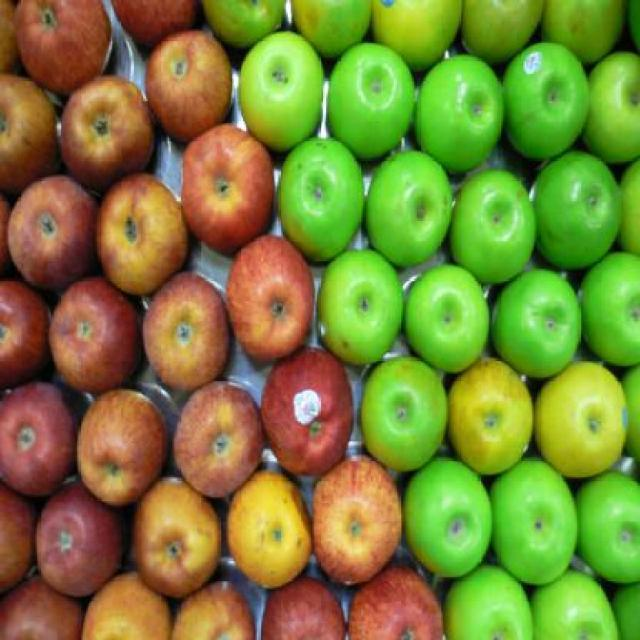Apple pie: (0, 0, 638, 638), (408, 258, 501, 374)
